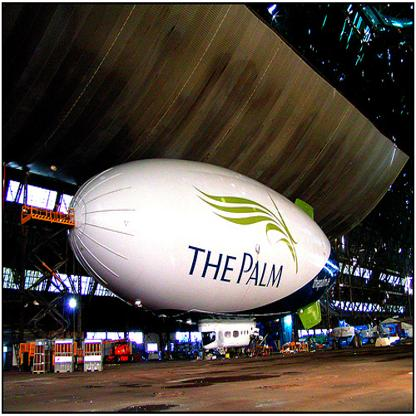Airship: (69, 157, 343, 345)
